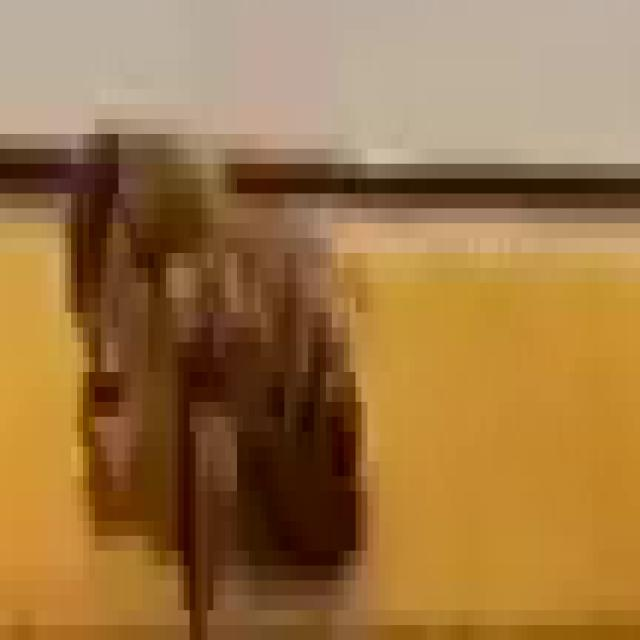honeybee: (62, 120, 364, 537)
